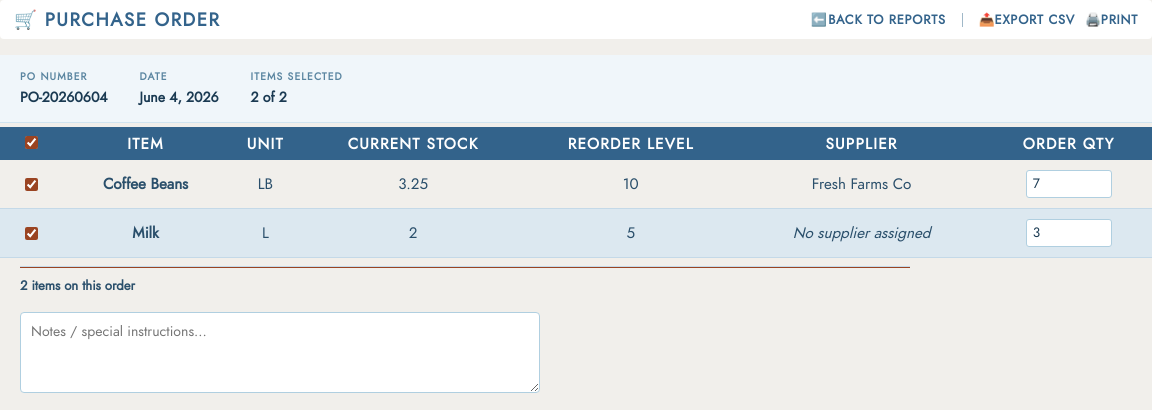
Test: AdminPurchaseOrderPage › can toggle all items off and disable export
Expected: the text "Coffee Beans" is shown, [63,160,228,208]
Click the checkbox in the row of "Unit".
click(32, 142)  # box [25,136,38,149]
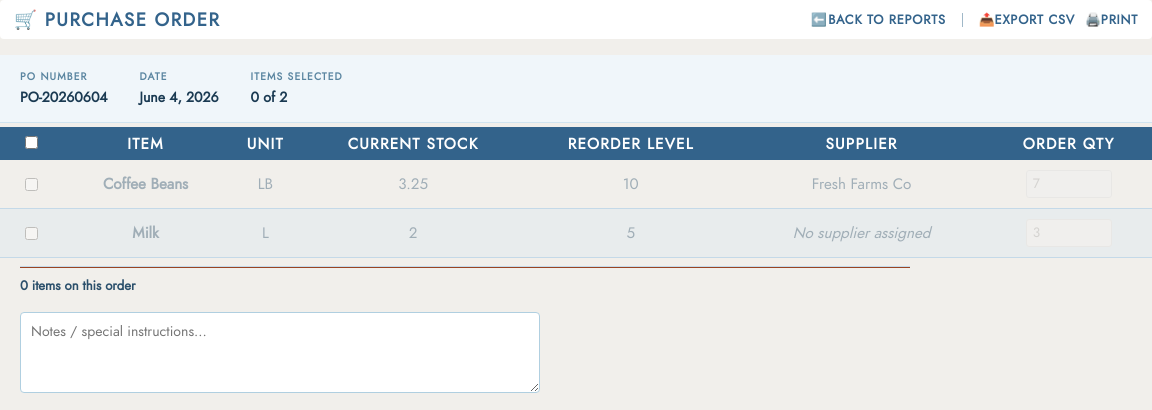
Expected: the button "📤EXPORT CSV" is disabled, [979,10,1075,28]
Expected: the text "0 items on this order" is shown, [20,276,135,295]
